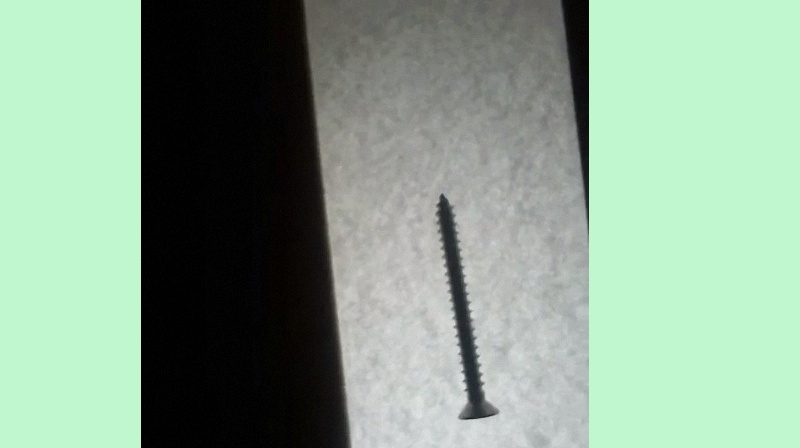S002: (433, 188, 502, 421)
